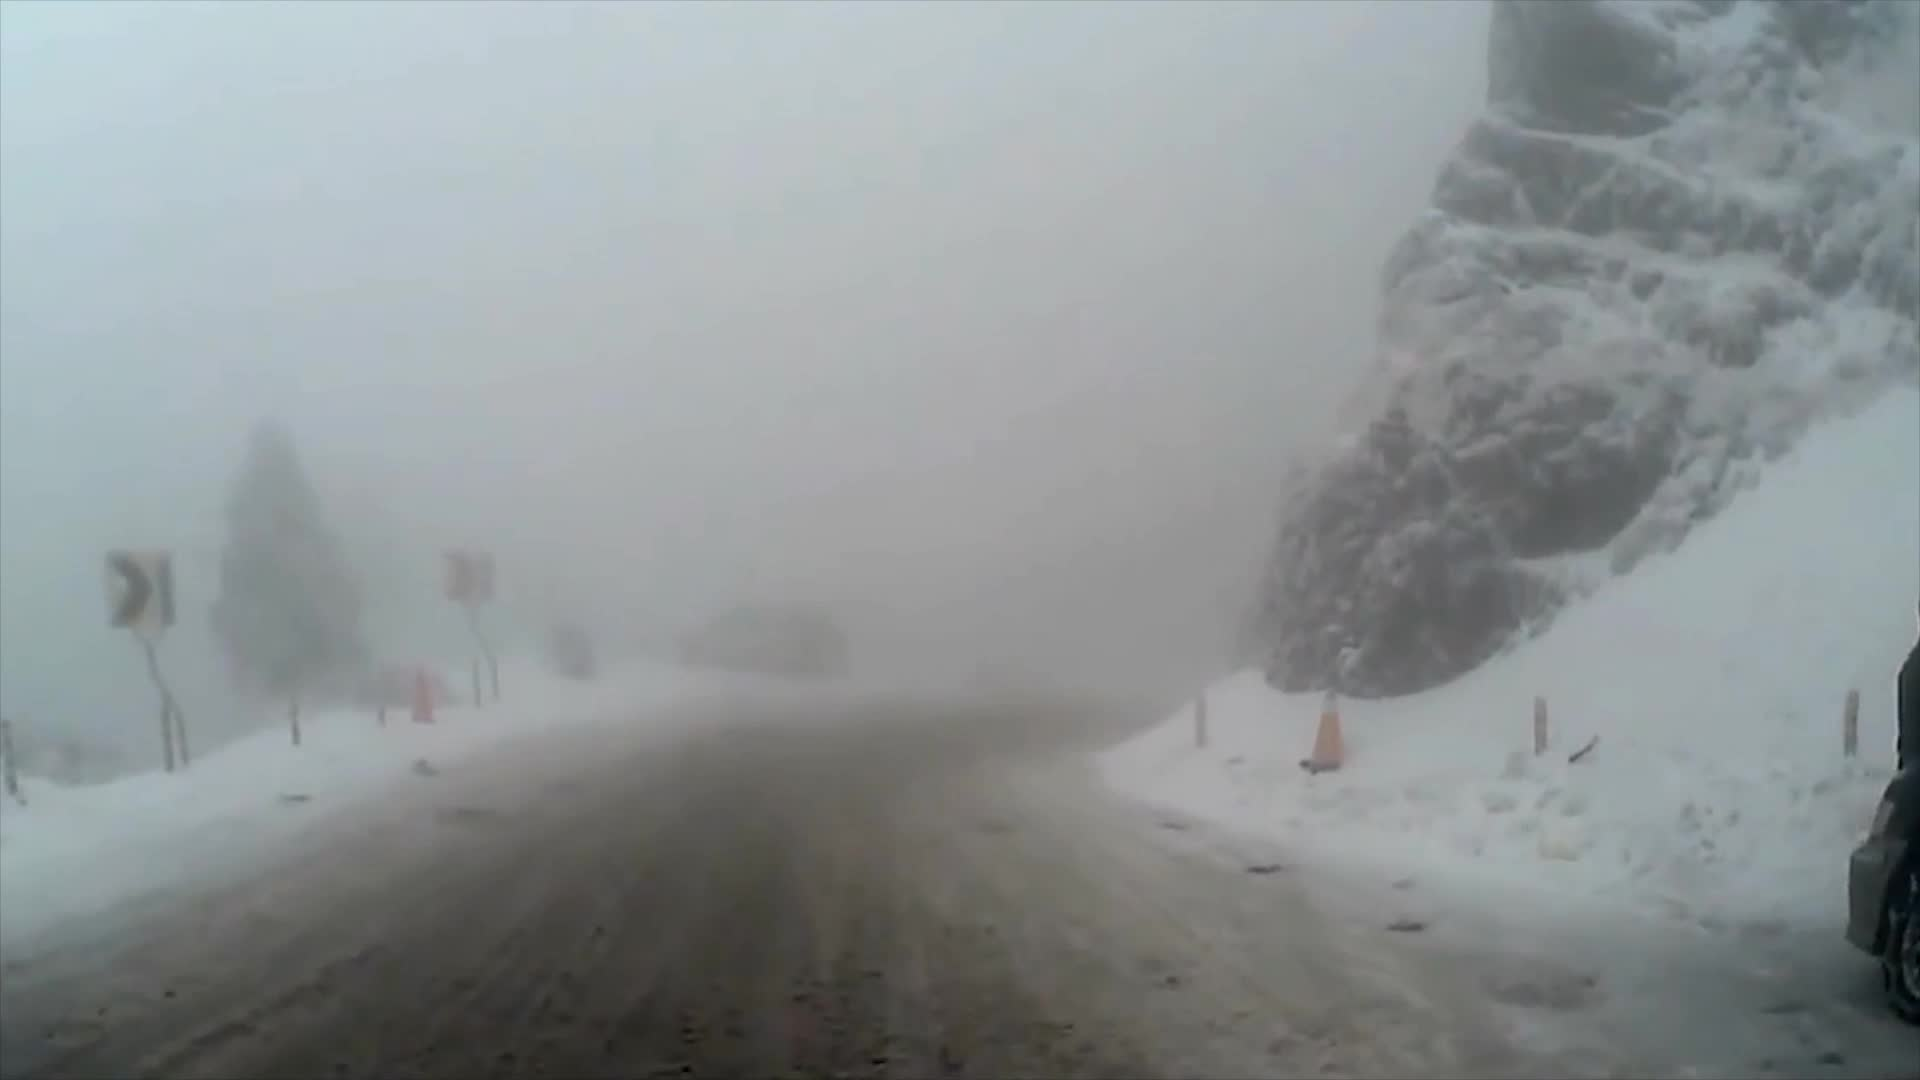pedestrian: (1892, 582, 1920, 911)
vehicle: (1842, 766, 1919, 1024)
